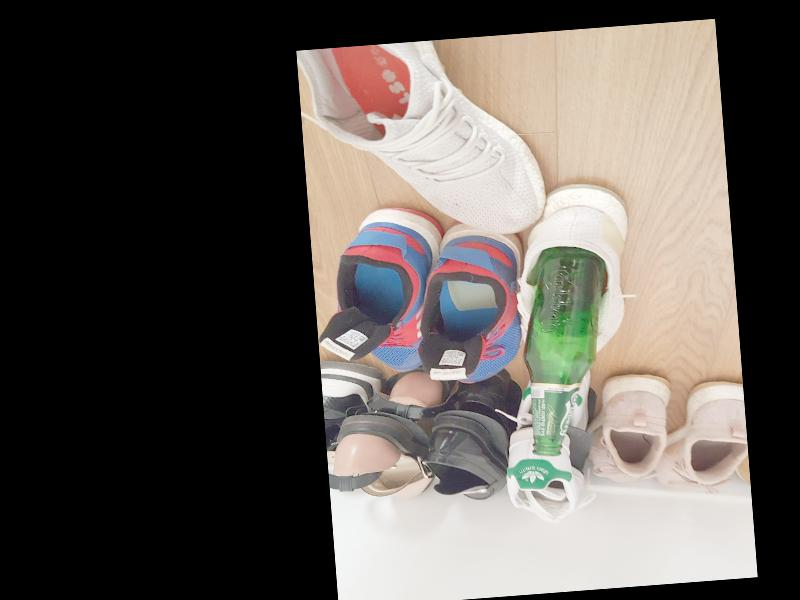Beer: (514, 244, 618, 455)
